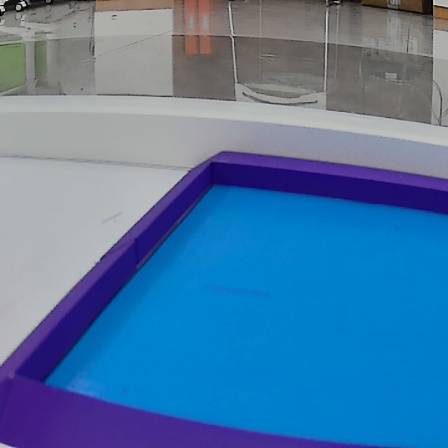blue_aim: (3, 153, 448, 448)
